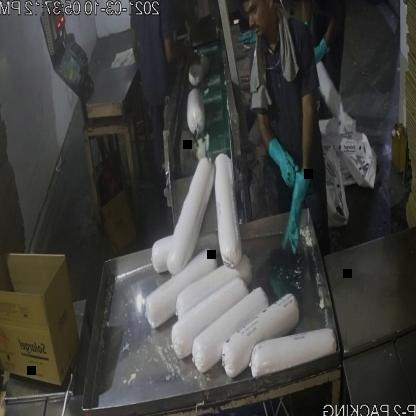glove: (279, 159, 317, 258), (267, 130, 297, 195)
no_glove: (164, 20, 202, 72)
